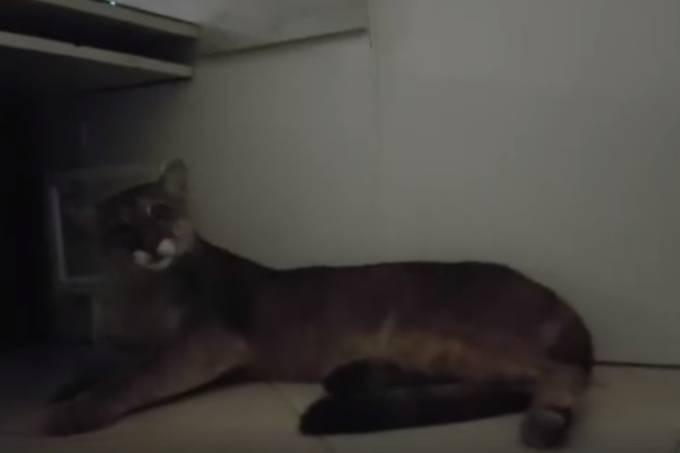OncaParda: (36, 157, 601, 445)
